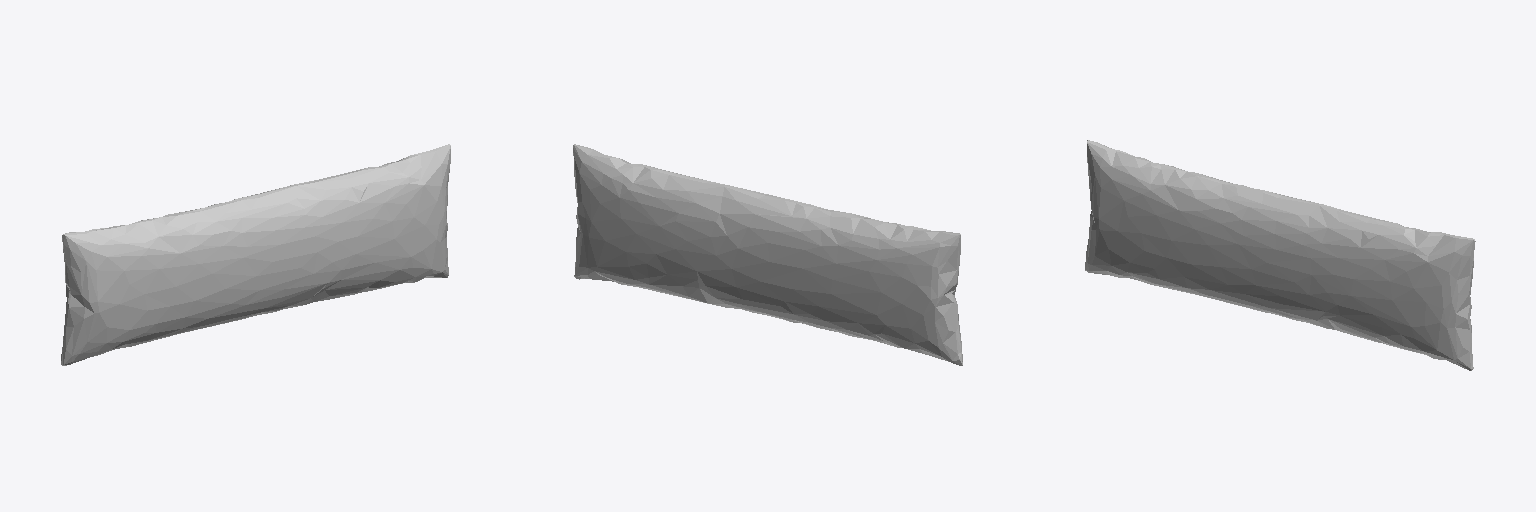
Rendered from daki.obj.
3 renders of one model, left to right at view 1: azimuth 30°, elevation 25°; view 2: azimuth 150°, elevation 25°; view 3: azimuth 330°, elevation 25°, orthographic.
Parts seen in each view (by area): view 1: Daki; view 2: Daki; view 3: Daki.
Part boxes in pixels (x1,y1,x2,y2): Daki: (61, 144, 450, 365); Daki: (573, 144, 962, 365); Daki: (1085, 140, 1475, 370).
Bounding box in the file's own units: 8.91 × 3 × 1.18.